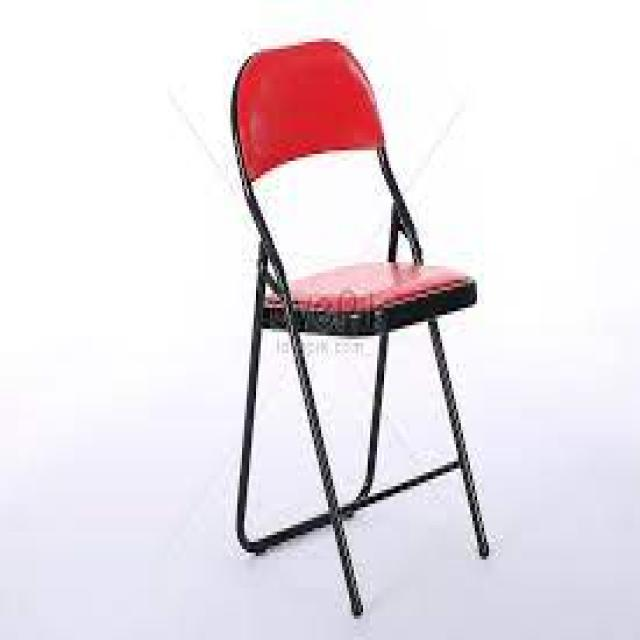chair: (190, 15, 458, 548), (208, 20, 465, 543), (320, 509, 519, 589), (189, 44, 309, 169)
